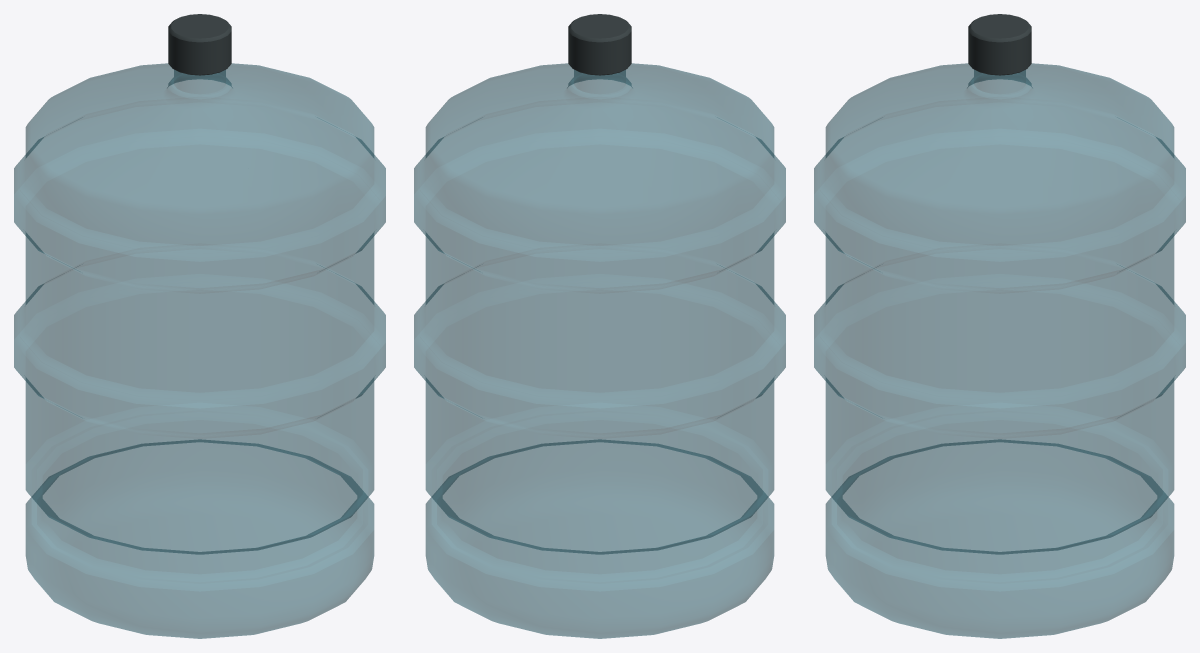
File: carnePlastico.fbx
3 renders of one model, left to right at view 1: azimuth 30°, elevation 25°; view 2: azimuth 150°, elevation 25°; view 3: azimuth 270°, elevation 25°, orthographic.
Parts seen in each view (by area): view 1: Cylinder001; view 2: Cylinder001; view 3: Cylinder001.
Part boxes in pixels (bbox=[...]): Cylinder001: bbox=[14, 14, 385, 638]; Cylinder001: bbox=[414, 14, 785, 638]; Cylinder001: bbox=[814, 14, 1185, 638].
Size of the model in its own units: 0.6617 by 1.06 by 0.6517.
